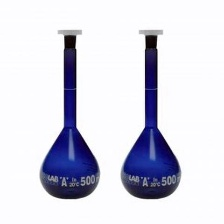bottle: (37, 24, 105, 199), (118, 26, 183, 204)
